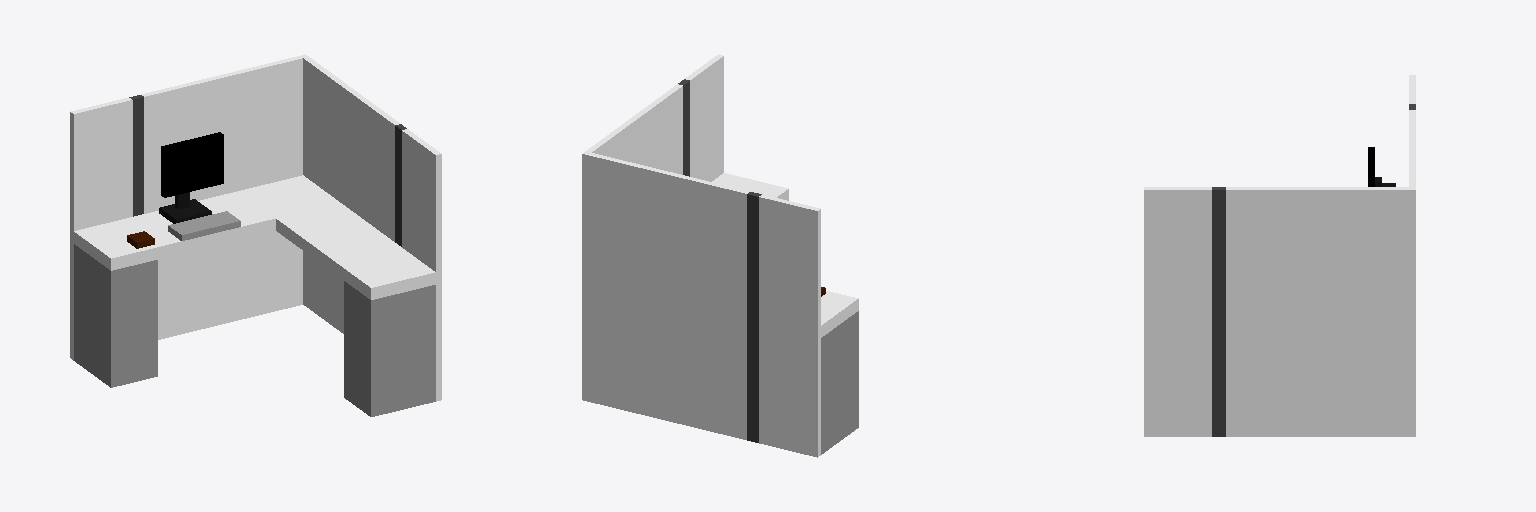
The picture shows the model from 3 angles: view 1: azimuth 30°, elevation 25°; view 2: azimuth 150°, elevation 25°; view 3: azimuth 270°, elevation 25°; orthographic projection.
Visible parts, largest first — view 1: object 1; view 2: object 1; view 3: object 1.
Boxes of the visible parts, box(x1,y1,x2,y2) form: object 1: box(70, 54, 441, 416); object 1: box(582, 54, 858, 457); object 1: box(1144, 75, 1415, 436).
Size of the model in its own units: 4 by 4 by 4.
Materials: 1 (1 with a texture image).